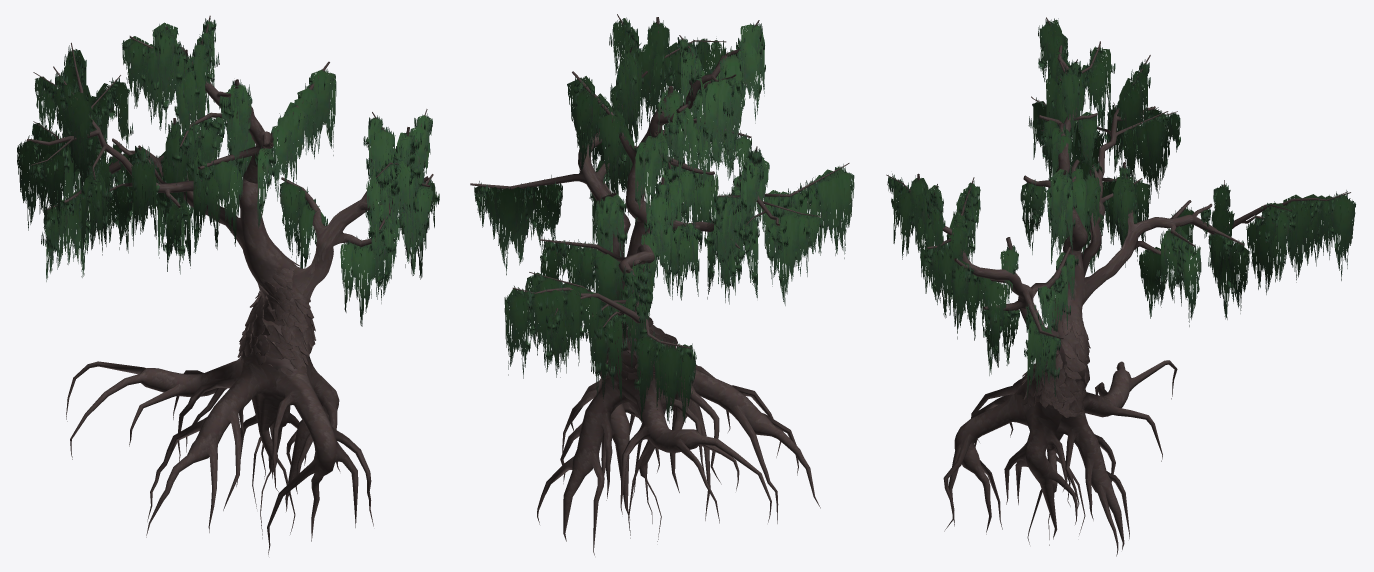
The picture shows the model from 3 angles, left to right: view 1: azimuth 30°, elevation 25°; view 2: azimuth 150°, elevation 25°; view 3: azimuth 270°, elevation 25°; orthographic projection. The views are drawn at different scales.
Parts seen in each view (by area): view 1: SM_SwampTree_01_LOD0; view 2: SM_SwampTree_01_LOD0; view 3: SM_SwampTree_01_LOD0.
Part boxes in pixels (x1=…): SM_SwampTree_01_LOD0: x1=17, y1=15, x2=439, y2=554; SM_SwampTree_01_LOD0: x1=470, y1=14, x2=854, y2=555; SM_SwampTree_01_LOD0: x1=886, y1=17, x2=1355, y2=556.
Size of the model in its own units: 19.3 by 26.45 by 23.21.
Materials: 2 (2 with a texture image).
